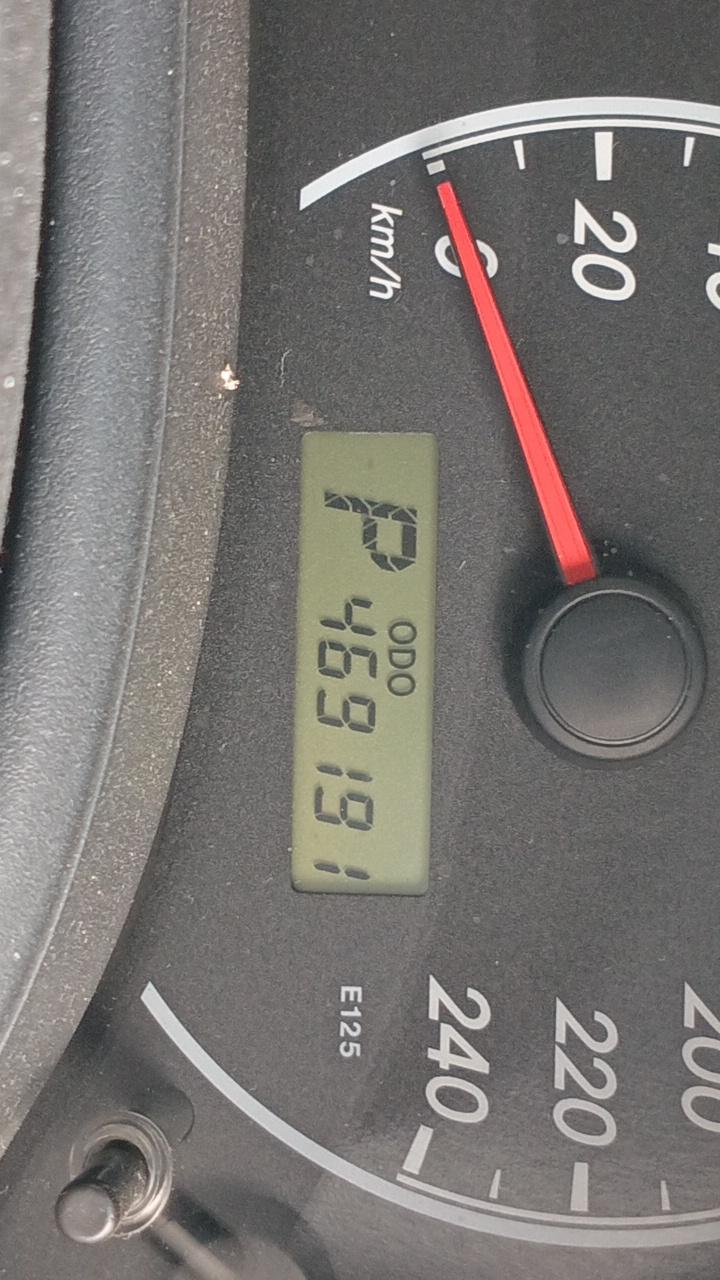1: (312, 860, 372, 882), (313, 762, 374, 783)
4: (317, 596, 377, 637)
6: (317, 640, 378, 681)
9: (316, 687, 378, 735), (314, 785, 375, 833)
X: (320, 490, 418, 575), (386, 673, 417, 697), (388, 621, 418, 645), (386, 648, 417, 670)
odometer: (289, 427, 442, 900)
